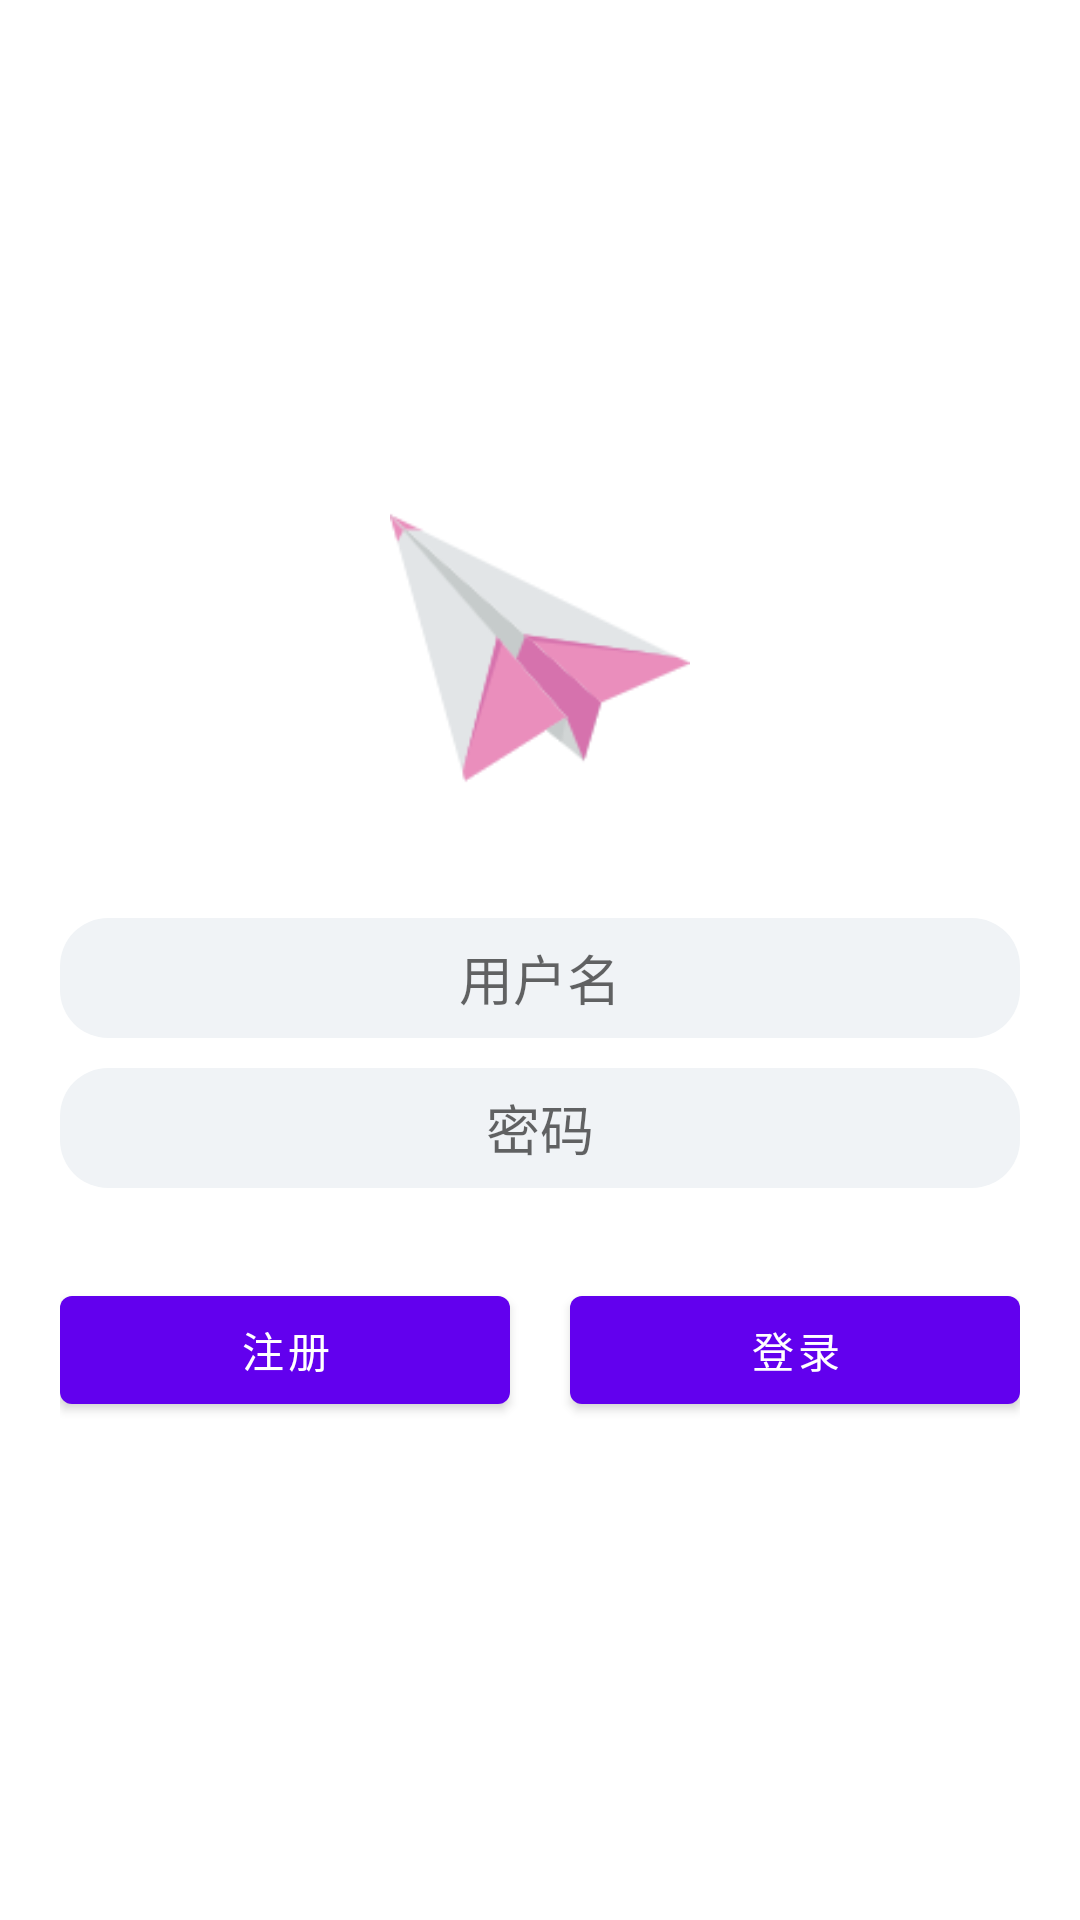

Named icons in this screenshot (1080 × 1920) and their centers, (x,y):
paperplane: (540,648)
